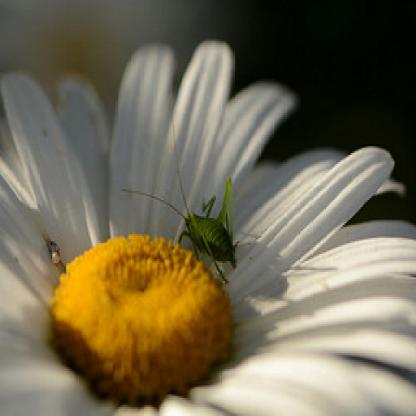ASTER: (3, 23, 415, 412)
